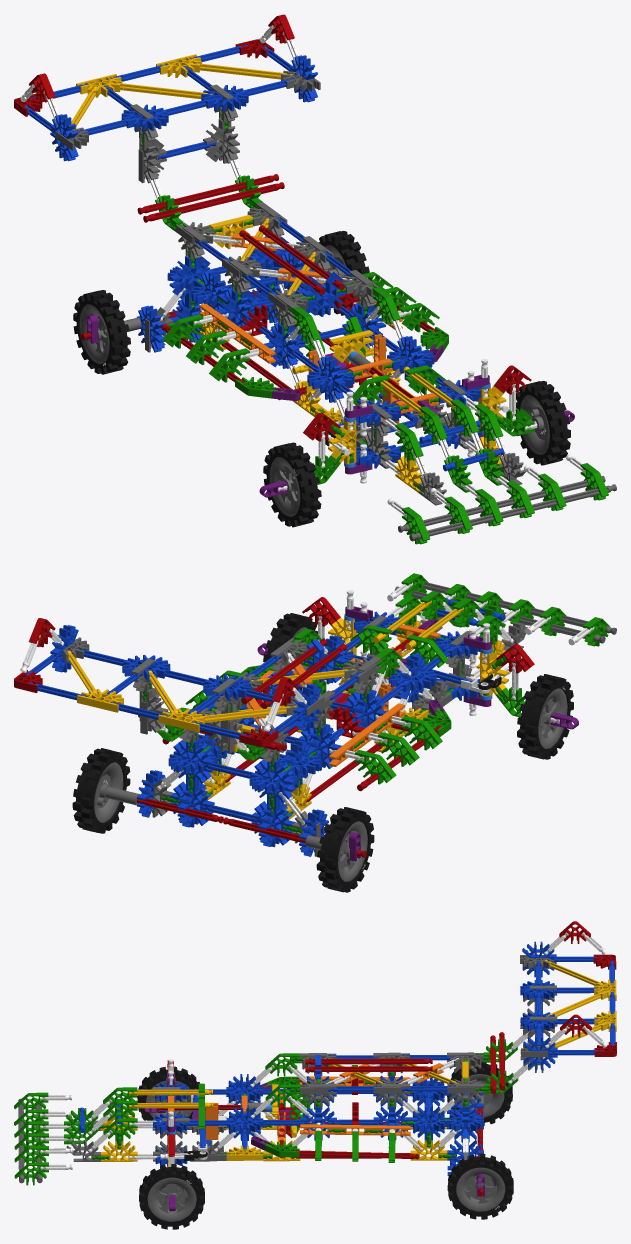
The picture shows the model from 3 angles, top to bottom: view 1: azimuth 30°, elevation 25°; view 2: azimuth 150°, elevation 25°; view 3: azimuth 270°, elevation 25°; orthographic projection. The views are drawn at different scales.
Parts seen in each view (by area): view 1: B1_L08.004, B1_L08.006, B1_L08.005, B1_L08.002, B1_L08.001, B1_L08.012, B1_L08.003, B1_L08.007, B1_L08.008; view 2: B1_L08.004, B1_L08.006, B1_L08.005, B1_L08.012, B1_L08.001, B1_L08.002, B1_L08.003, B1_L08.007, B1_L08.008; view 3: B1_L08.004, B1_L08.006, B1_L08.005, B1_L08.001, B1_L08.012, B1_L08.002, B1_L08.003, B1_L08.007, B1_L08.008.
Part boxes in pixels (bbox=[...]): B1_L08.004: bbox=[24, 44, 504, 471]; B1_L08.006: bbox=[55, 70, 616, 540]; B1_L08.005: bbox=[141, 110, 608, 544]; B1_L08.002: bbox=[71, 54, 506, 492]; B1_L08.001: bbox=[14, 14, 531, 441]; B1_L08.012: bbox=[73, 231, 570, 527]; B1_L08.003: bbox=[20, 25, 585, 516]; B1_L08.007: bbox=[199, 234, 439, 426]; B1_L08.008: bbox=[87, 314, 574, 497]; B1_L08.004: bbox=[25, 598, 505, 856]; B1_L08.006: bbox=[63, 582, 616, 881]; B1_L08.005: bbox=[142, 573, 609, 833]; B1_L08.012: bbox=[72, 613, 573, 892]; B1_L08.001: bbox=[14, 597, 534, 857]; B1_L08.002: bbox=[67, 600, 508, 819]; B1_L08.003: bbox=[20, 582, 594, 824]; B1_L08.007: bbox=[200, 624, 440, 766]; B1_L08.008: bbox=[257, 606, 578, 861]; B1_L08.004: bbox=[79, 941, 615, 1175]; B1_L08.006: bbox=[18, 955, 557, 1221]; B1_L08.005: bbox=[14, 1039, 518, 1185]; B1_L08.001: bbox=[158, 921, 616, 1196]; B1_L08.012: bbox=[137, 1062, 513, 1229]; B1_L08.002: bbox=[100, 960, 616, 1166]; B1_L08.003: bbox=[40, 932, 607, 1169]; B1_L08.007: bbox=[168, 1063, 443, 1140]; B1_L08.008: bbox=[144, 1072, 484, 1211].
Size of the model in its own units: 2.88 by 2.3 by 6.03.
